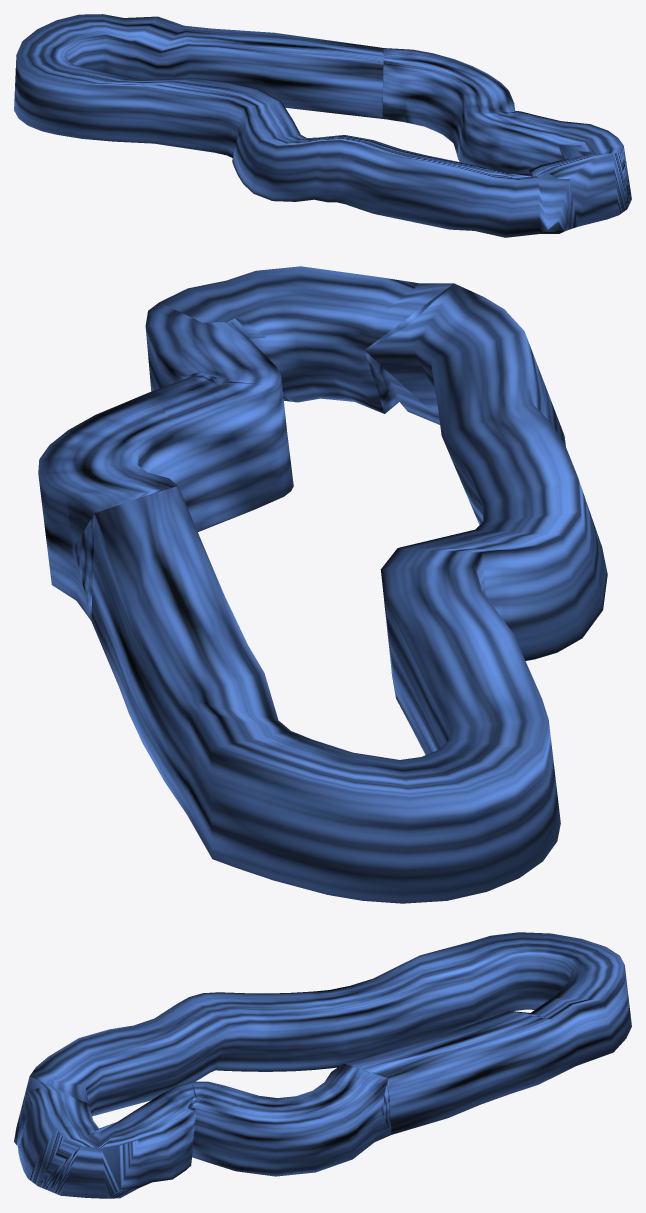
Rendered from Island1.fbx.
The picture shows the model from 3 angles, top to bottom: view 1: azimuth 30°, elevation 25°; view 2: azimuth 150°, elevation 25°; view 3: azimuth 270°, elevation 25°; orthographic projection. The views are drawn at different scales.
Visible parts, largest first — view 1: makevr_0005; view 2: makevr_0005; view 3: makevr_0005.
Part boxes in pixels (x1,y1,x2,y2): makevr_0005: (14,14,631,237); makevr_0005: (38,266,607,903); makevr_0005: (14,932,631,1198).
Size of the model in its own units: 1841 by 334 by 2349.
